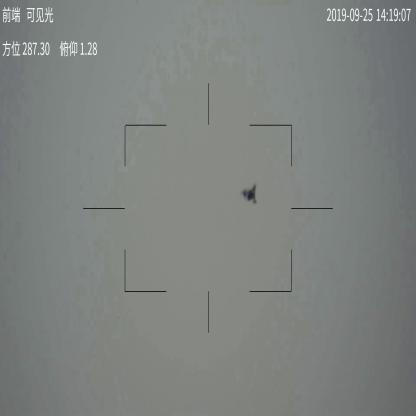uav: (240, 184, 257, 204)
